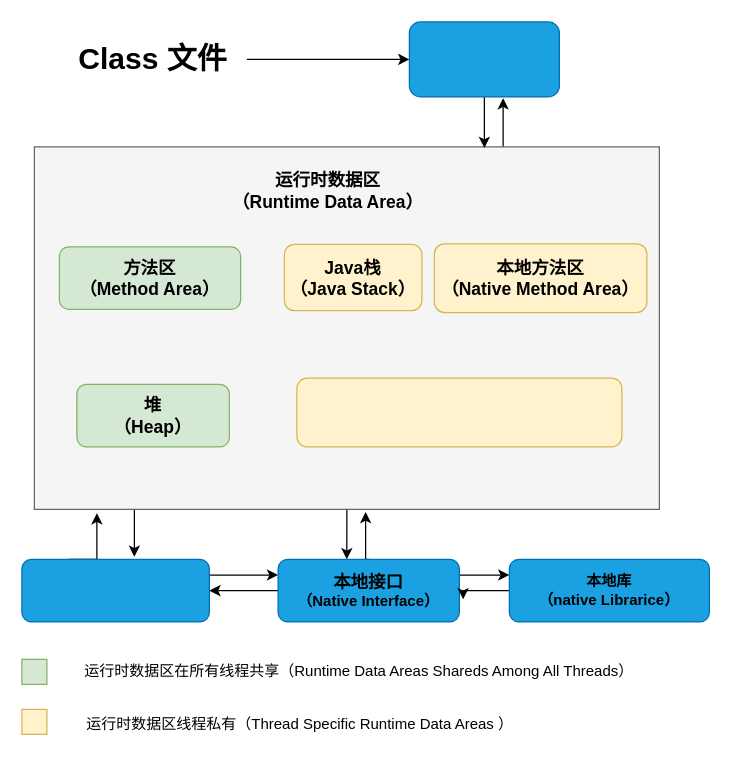
The diagram is 731 pixels wide and 759 high, and some of its shapes have lost their labels. The centre of each missing label's shape, as x and y in pixels:
"执行引擎 （Execution Engine）" goes at [115,590].
"程序计数器 （Program Counter Register）" goes at [459,412].
"类加载器 Class Loader" goes at [483,59].
